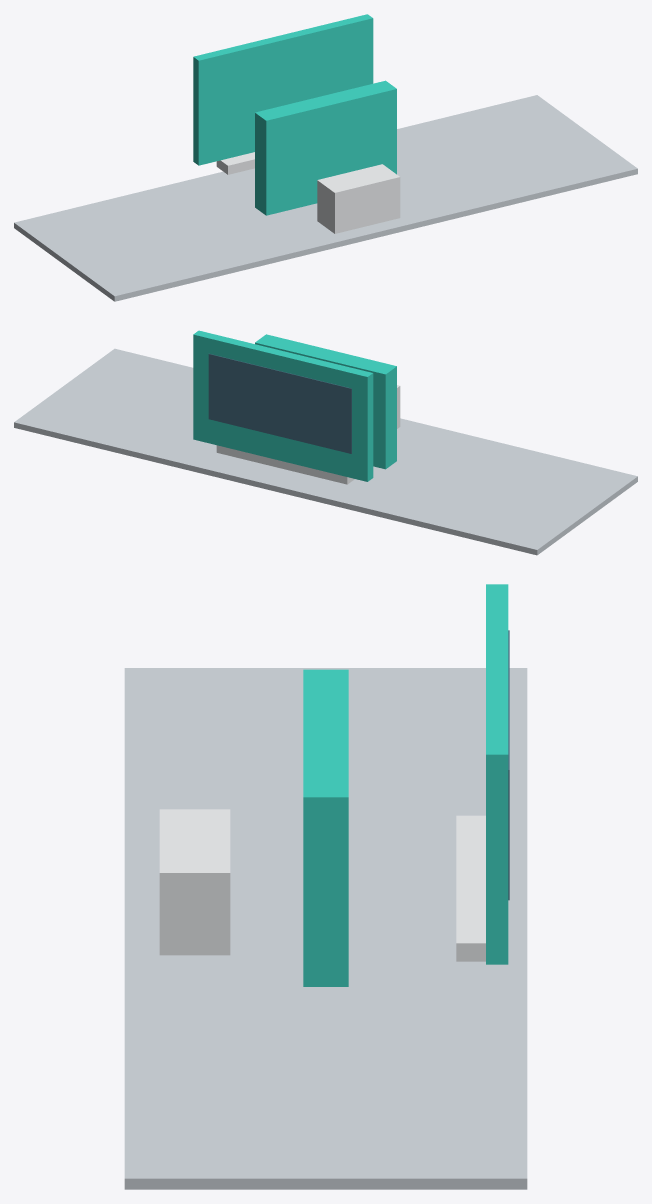
3 renders of one model, top to bottom at view 1: azimuth 30°, elevation 25°; view 2: azimuth 150°, elevation 25°; view 3: azimuth 270°, elevation 25°, orthographic. The views are drawn at different scales.
Visible parts, largest first — view 1: Exhibition Booth Concept; view 2: Exhibition Booth Concept; view 3: Exhibition Booth Concept.
Boxes of the visible parts, <box> form: Exhibition Booth Concept: <box>14,14,637,301</box>; Exhibition Booth Concept: <box>14,330,637,555</box>; Exhibition Booth Concept: <box>124,584,527,1189</box>.
Bounding box in the file's own units: 12 × 2.9 × 4.
